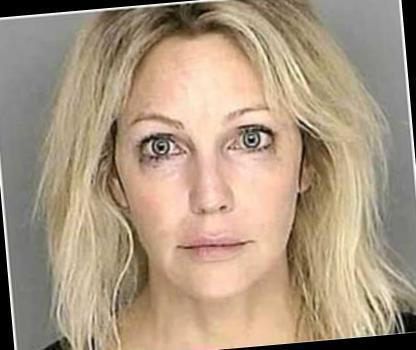Drunk: (120, 50, 298, 293)
